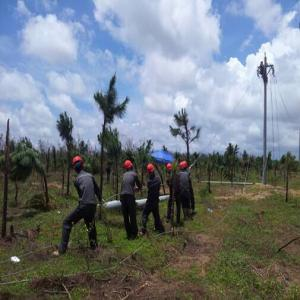red: (71, 156, 85, 176), (124, 159, 135, 176), (147, 164, 156, 178), (166, 164, 175, 174), (179, 162, 186, 173)
